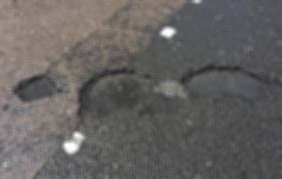pothole: (171, 56, 277, 103), (81, 70, 161, 112), (10, 73, 66, 98)
